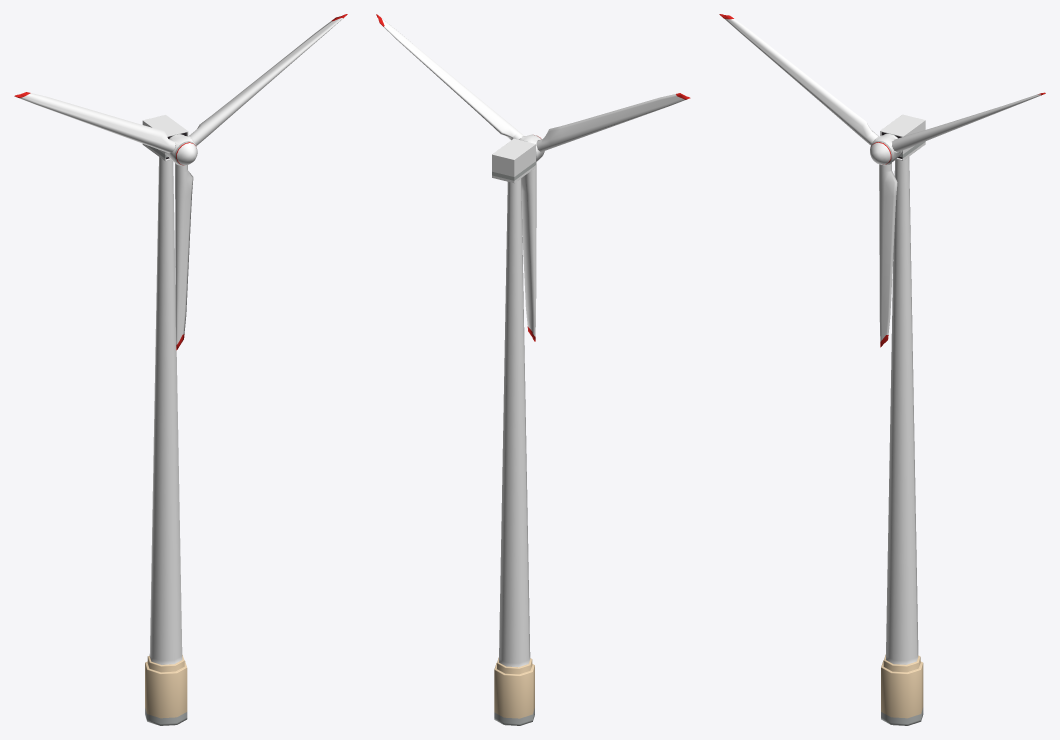
The model's file is EolicAnimate.glb.
3 views of the same model, side by side, from view 1: azimuth 30°, elevation 25°; view 2: azimuth 150°, elevation 25°; view 3: azimuth 330°, elevation 25° (orthographic). The views are drawn at different scales.
Visible parts, largest first — view 1: Cylinder.003, Cylinder, Cube; view 2: Cylinder.003, Cylinder, Cube; view 3: Cylinder.003, Cylinder, Cube.
Part boxes in pixels (x1,y1,x2,y2): Cylinder.003: (145,157,187,725); Cylinder: (14,14,347,350); Cube: (142,115,188,160); Cylinder.003: (494,178,534,725); Cylinder: (376,14,690,341); Cube: (492,138,535,183); Cylinder.003: (881,156,923,725); Cylinder: (719,14,1045,347); Cube: (880,114,925,160).
Size of the model in its own units: 16.69 by 32.76 by 3.33.
Materials: 1 (1 with a texture image).
